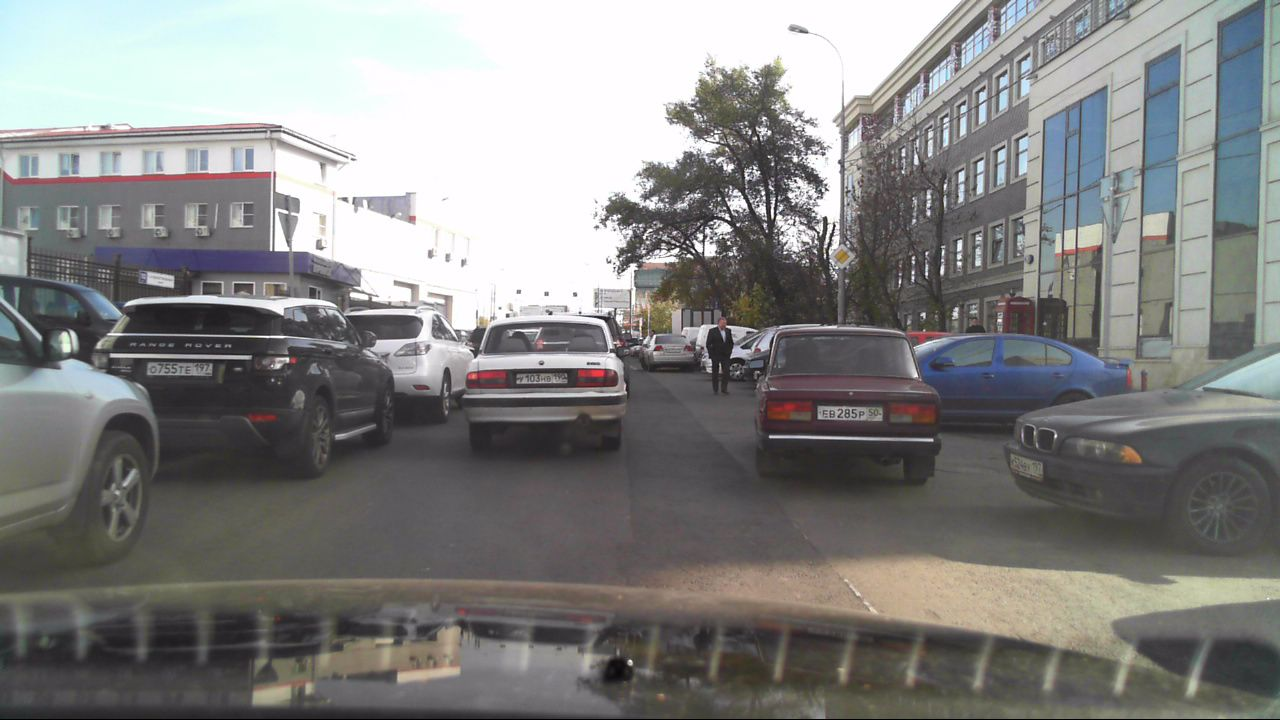main road: (827, 244, 855, 269)
